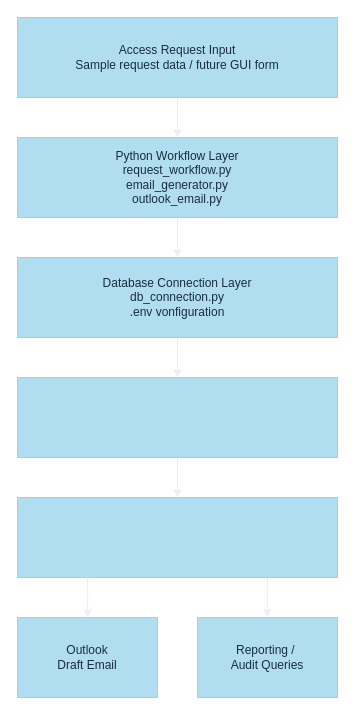
The diagram is 355 pixels wide and 715 high, and some of its shapes have lost their labels. Here are the shapes that lost their labels. From the top down, the centre of each, then its label:
At (177,417): "SQL Server Database Dashboard_User_Access Tables + relationships".
At (177,537): "Database Logic Layer Stored procedures Views EmailLog".
